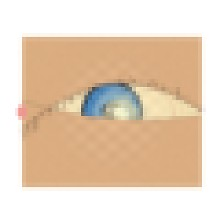corneal_ulcer: (90, 92, 151, 141)
